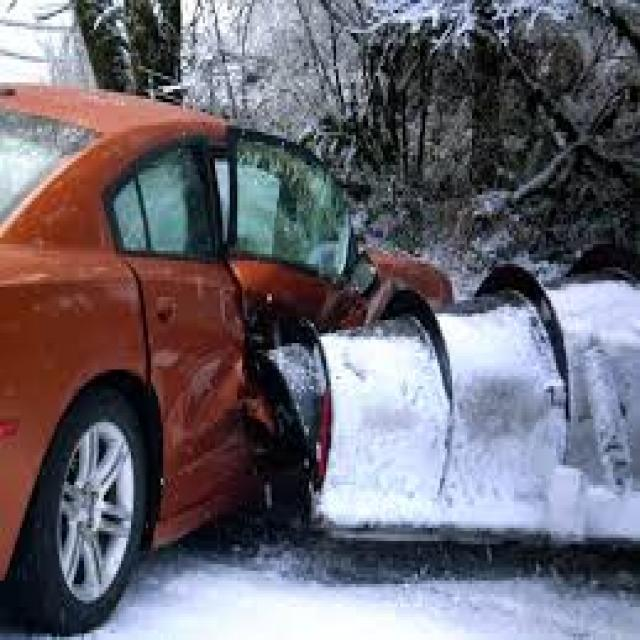severe: (200, 106, 404, 507)
